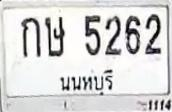2: (144, 13, 161, 54), (104, 15, 121, 55)
5: (84, 14, 100, 55)
6: (125, 15, 140, 54)
A01: (20, 16, 40, 57)
A39: (44, 15, 65, 56)
NBI: (56, 66, 118, 97)
